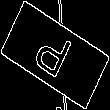P_SW: (32, 24, 78, 86)
